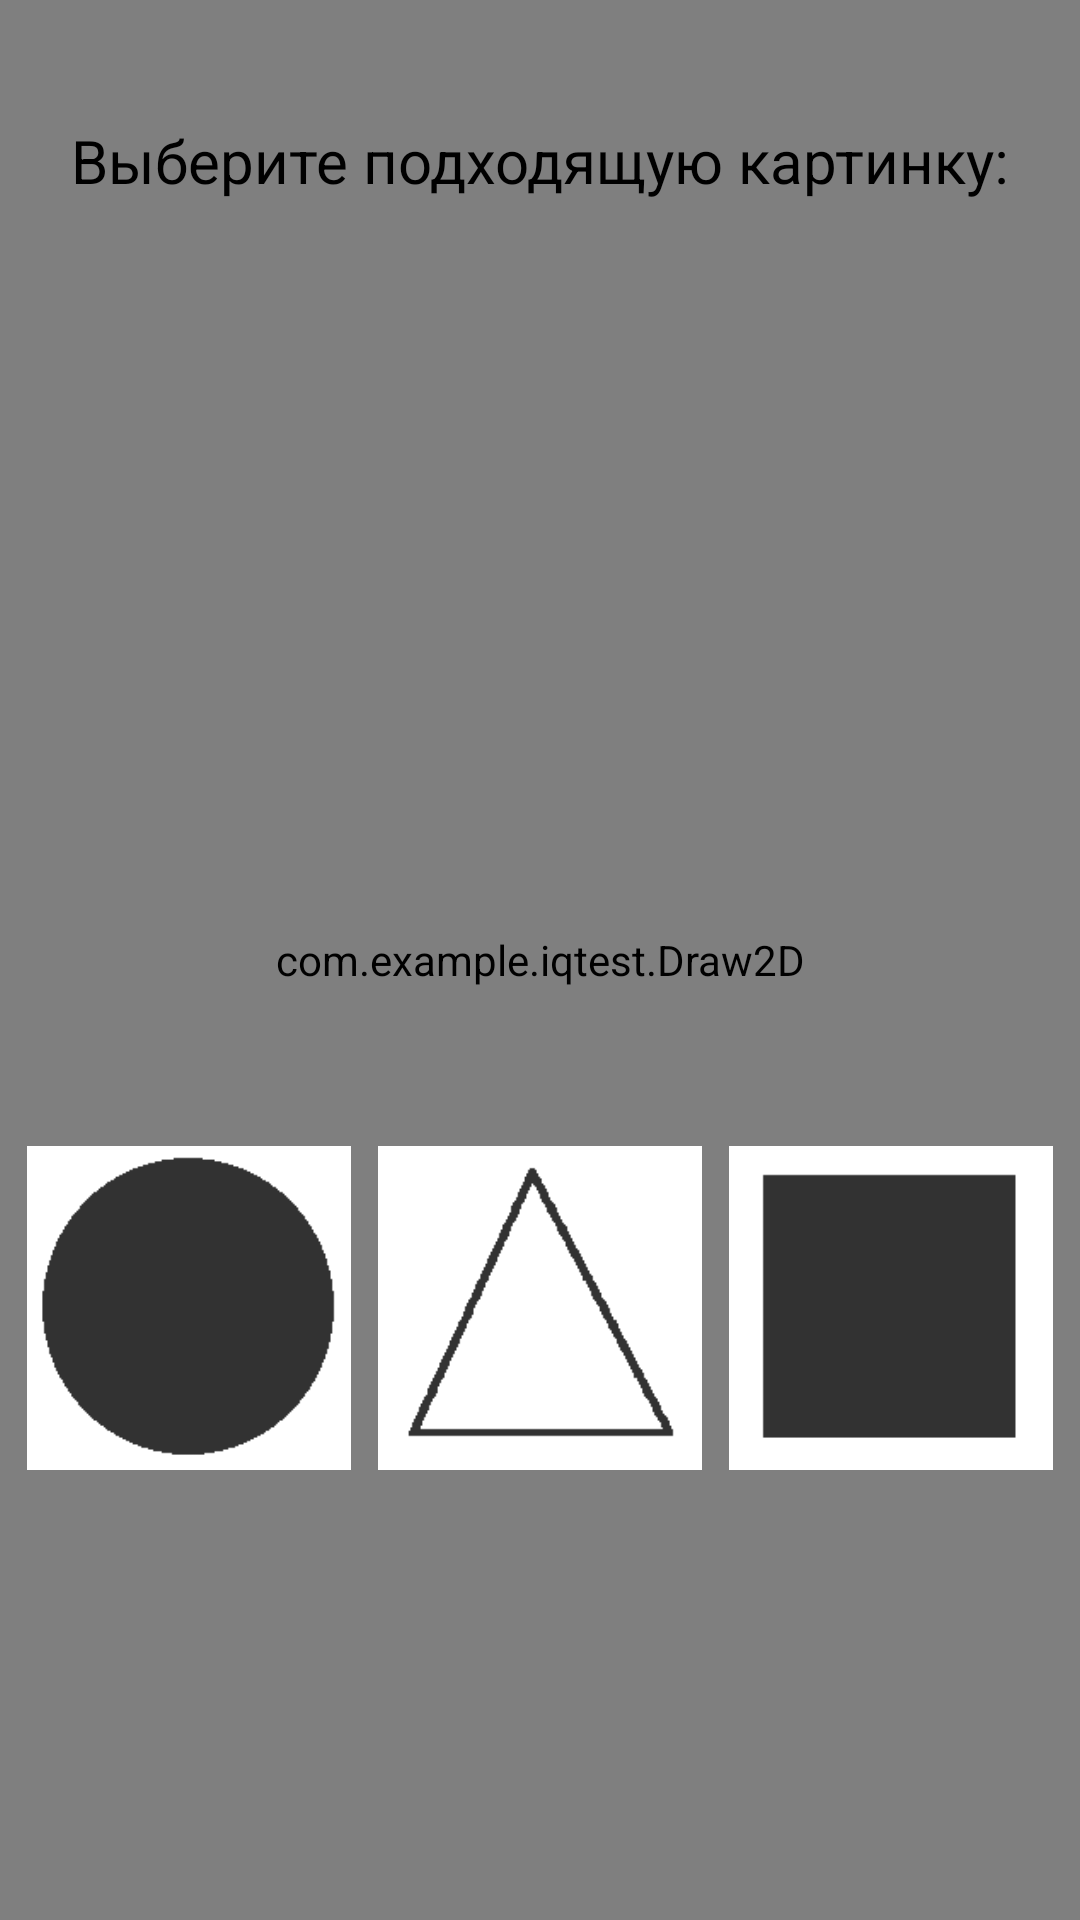

Locate icon controls on the screen. Image size 1080×1920, boxes as {"left": x1, "top": y1, "right": x2, "bottom": y2}.
rec: {"left": 729, "top": 1146, "right": 1053, "bottom": 1470}
triangle: {"left": 378, "top": 1146, "right": 702, "bottom": 1470}
